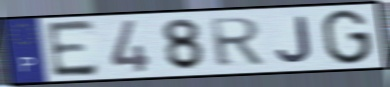4: (108, 17, 153, 76)
8: (160, 17, 208, 72)
E: (44, 18, 101, 80)
G: (321, 8, 374, 67)
J: (274, 15, 314, 64)
R: (207, 15, 267, 69)
